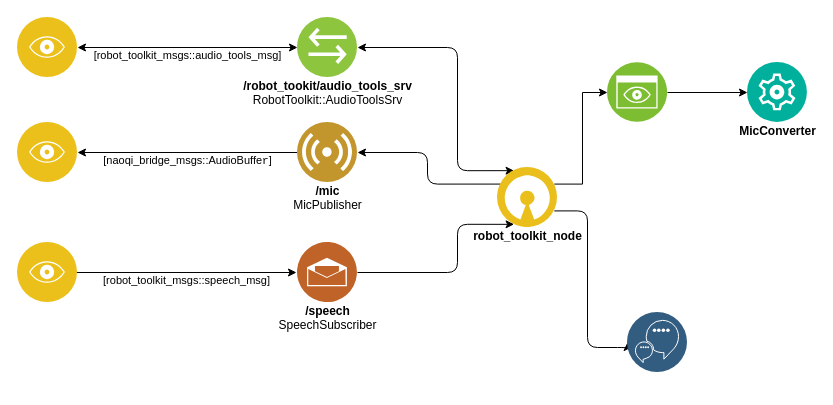
This 833x405 diagram has some shape labels left out. The centre of each missing label's shape, as x and y in pixels:
"MicEventRegister" belongs at [637,92].
"SpeechSubscriber" belongs at [657,342].
